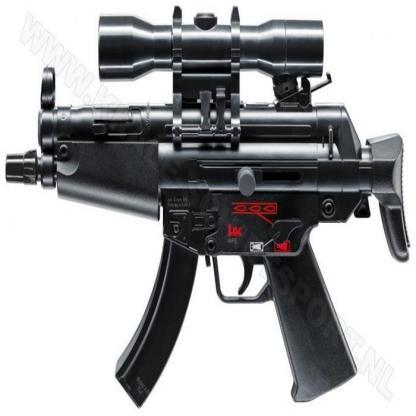Gun: (5, 5, 410, 410)
